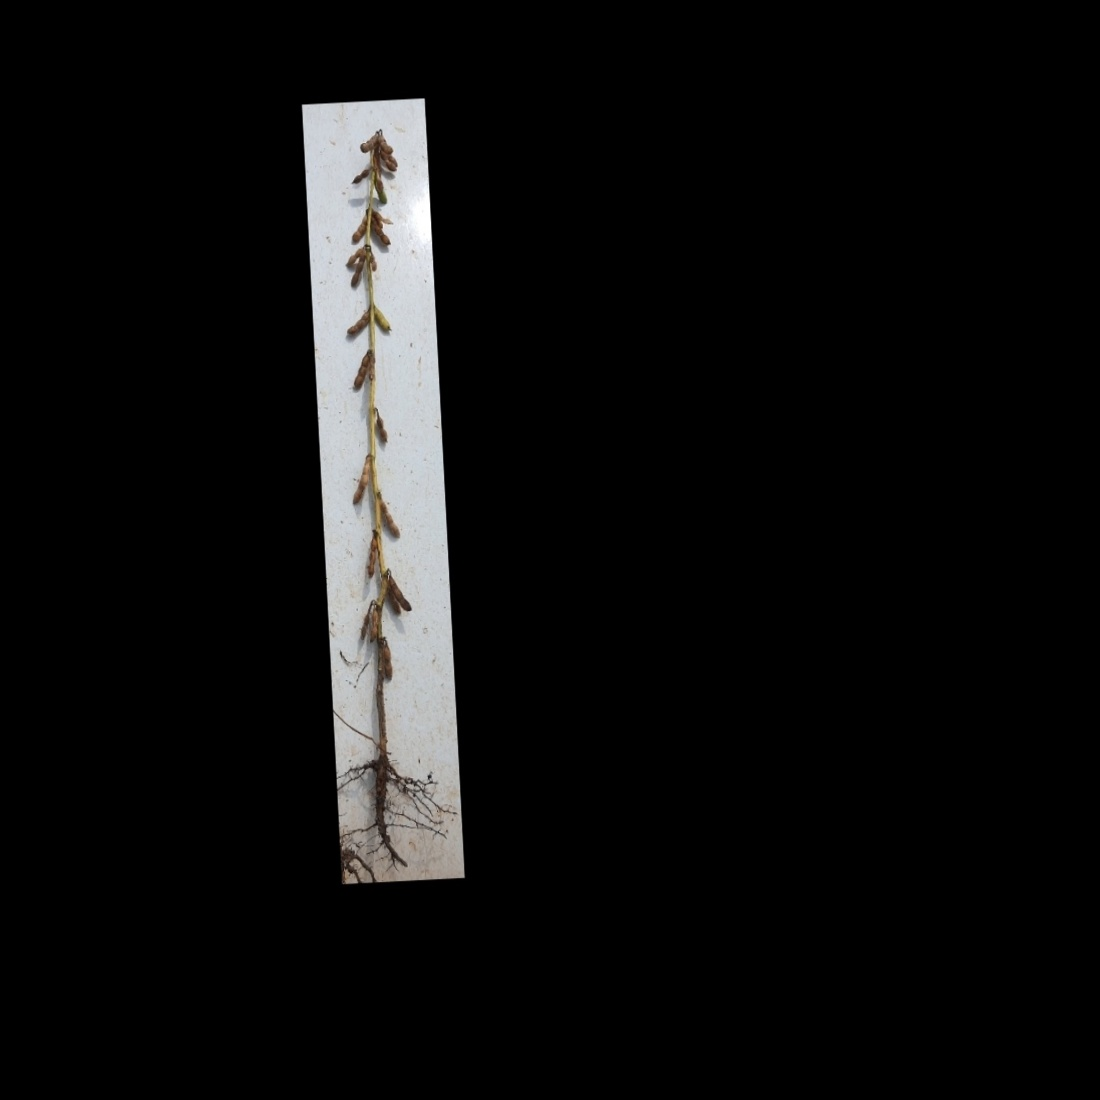pod: (349, 453, 375, 507), (343, 300, 375, 337), (379, 496, 402, 542), (350, 349, 375, 389), (347, 210, 373, 243), (371, 300, 393, 337), (364, 534, 381, 579), (373, 405, 390, 447), (380, 640, 396, 682), (348, 162, 375, 185), (356, 609, 373, 642), (367, 608, 381, 642), (368, 248, 378, 273)
soy: (317, 121, 442, 867)
